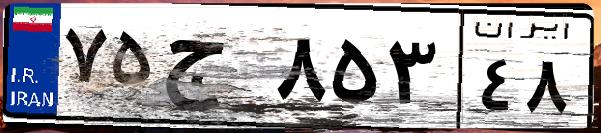3: (385, 28, 445, 110)
4: (475, 38, 525, 113)
5: (330, 28, 385, 110), (110, 28, 158, 98)
7: (57, 26, 110, 100)
8: (270, 28, 330, 110), (525, 38, 570, 115)
ج: (158, 20, 270, 120)
